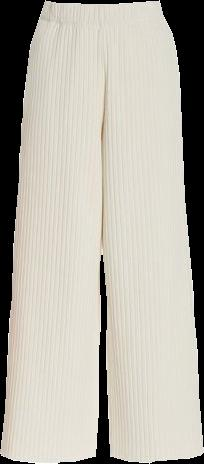Hemline: (0, 450, 96, 463), (109, 451, 203, 463)
Pantleg: (0, 1, 105, 462), (103, 1, 202, 461)
Waistline: (38, 13, 165, 28), (43, 0, 158, 9)
